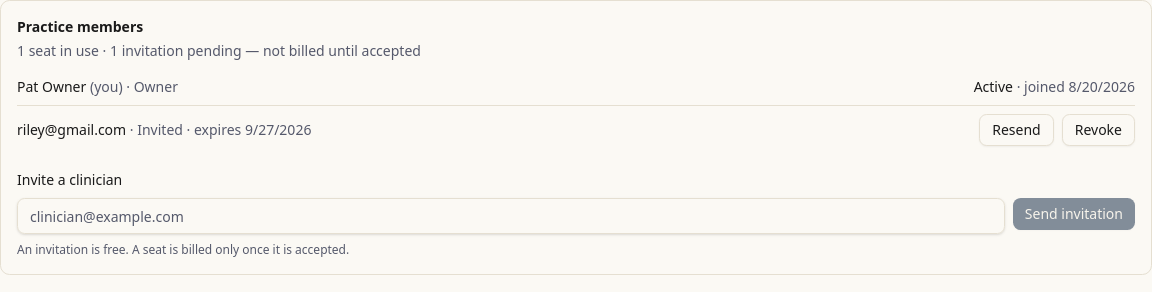
PracticeRoster › revokes an invitation and reloads the roster
The image size is (1152, 292).
Click the button with aria-label "Revoke invitation".
click(1098, 130)  # box x1=1062 y1=114 x2=1135 y2=146
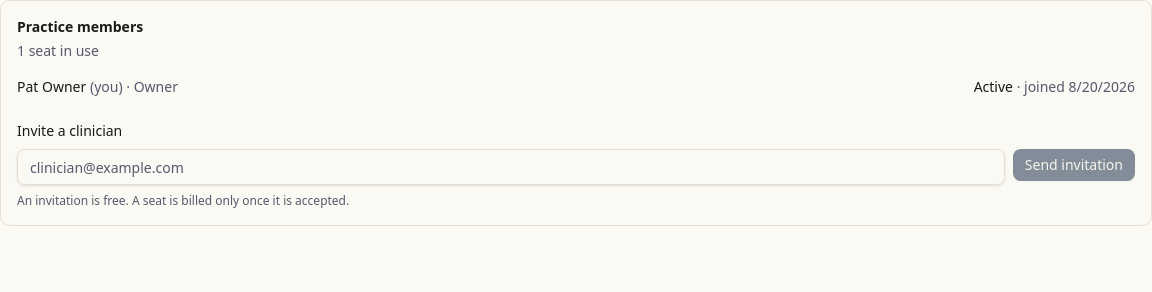
Now the text "riley@gmail.com" is gone
